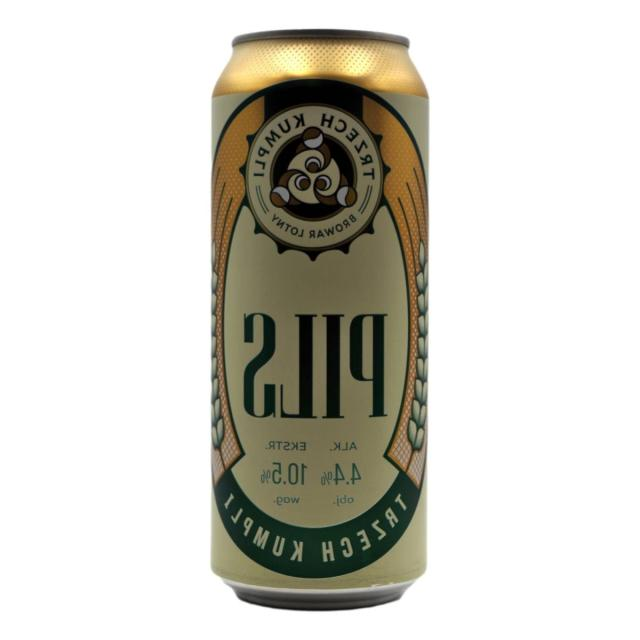metal: (210, 29, 429, 610), (211, 78, 429, 590)
